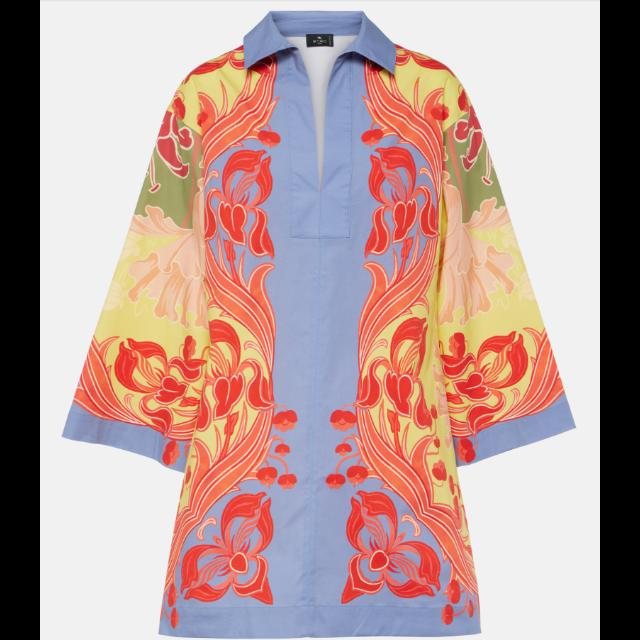top: (68, 16, 582, 638)
